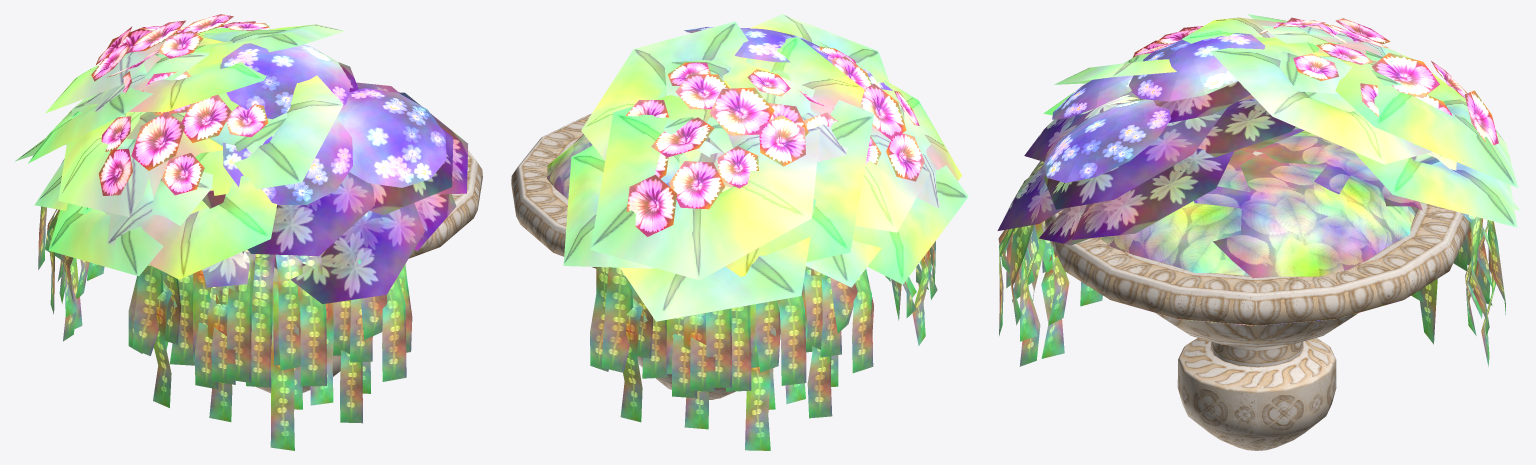
Rendered from smallbowl08_SM.fbx.
3 renders of one model, left to right at view 1: azimuth 30°, elevation 25°; view 2: azimuth 150°, elevation 25°; view 3: azimuth 270°, elevation 25°, orthographic. The views are drawn at different scales.
Parts seen in each view (by area): view 1: smallbowl08_SM_LOD0; view 2: smallbowl08_SM_LOD0; view 3: smallbowl08_SM_LOD0.
Boxes of the visible parts, box(x1,y1,x2,y2) form: smallbowl08_SM_LOD0: box(15, 14, 482, 450); smallbowl08_SM_LOD0: box(511, 14, 968, 450); smallbowl08_SM_LOD0: box(997, 14, 1520, 450).
Size of the model in its own units: 176 by 191 by 157.
Materials: 8 (8 with a texture image).
